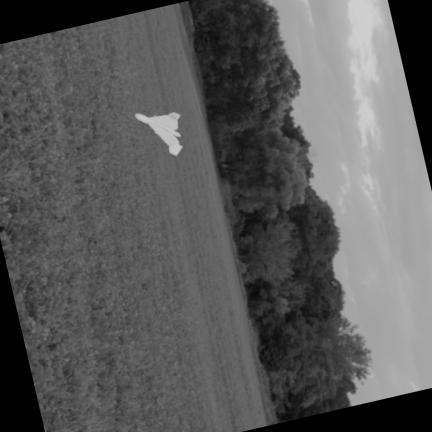Shahed: (135, 113, 182, 155)
